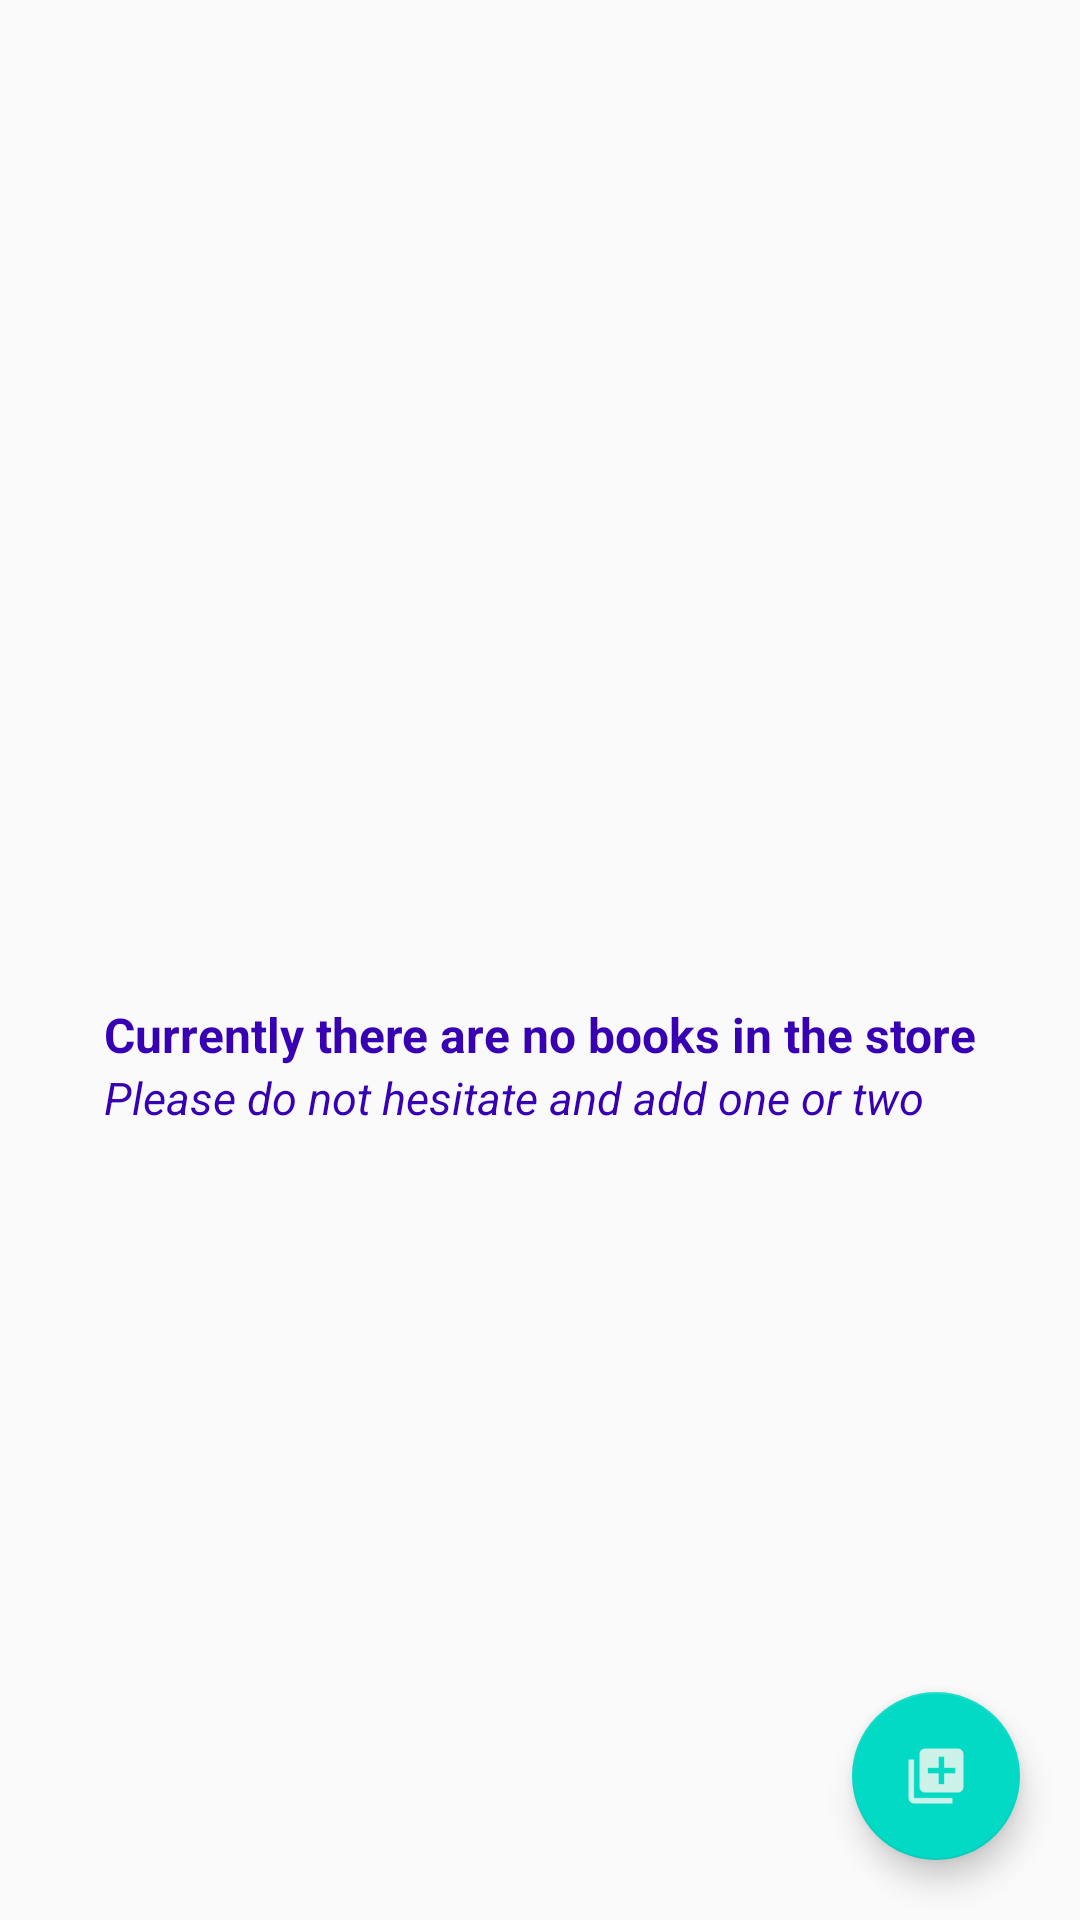

Icons on this 1080x1920 Android screen, each with the point to tap as [x,y]:
fab: [936,1776]
